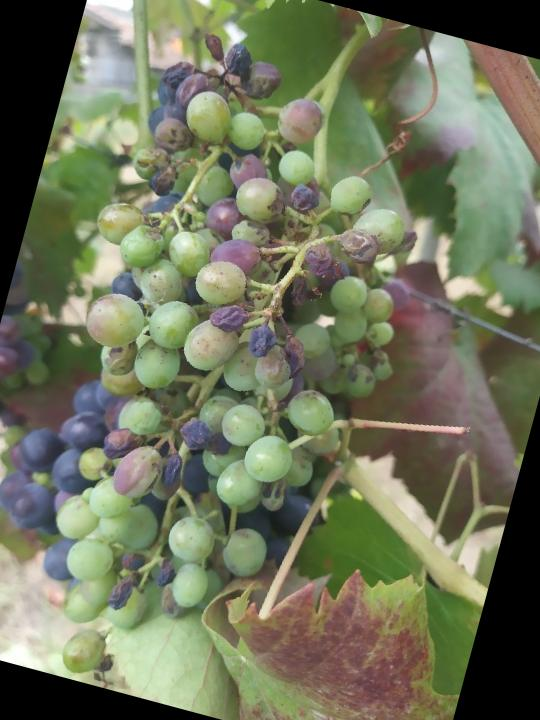grape: (0, 9, 463, 720)
